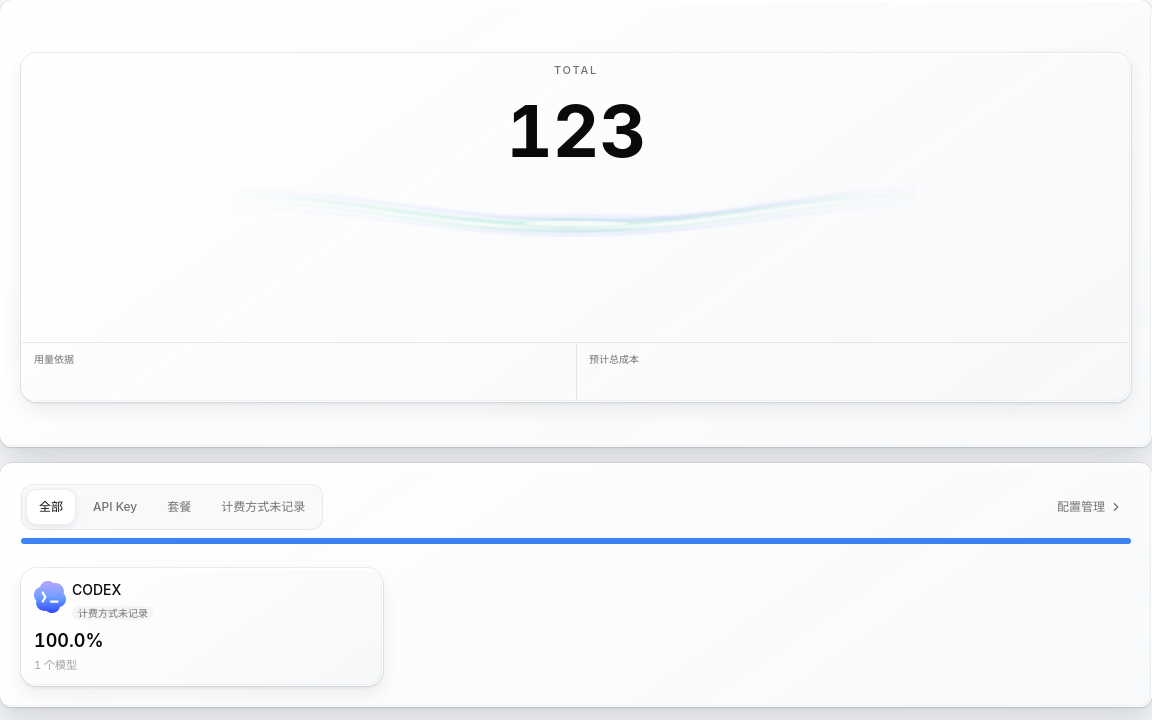
Test case: UsageOverview › uses Chinese copy for the Codex context breakdown heading
Click the button "CODEX 计费方式未记录 100.0% 1 个模型": [50, 597] box [21, 568, 383, 686]
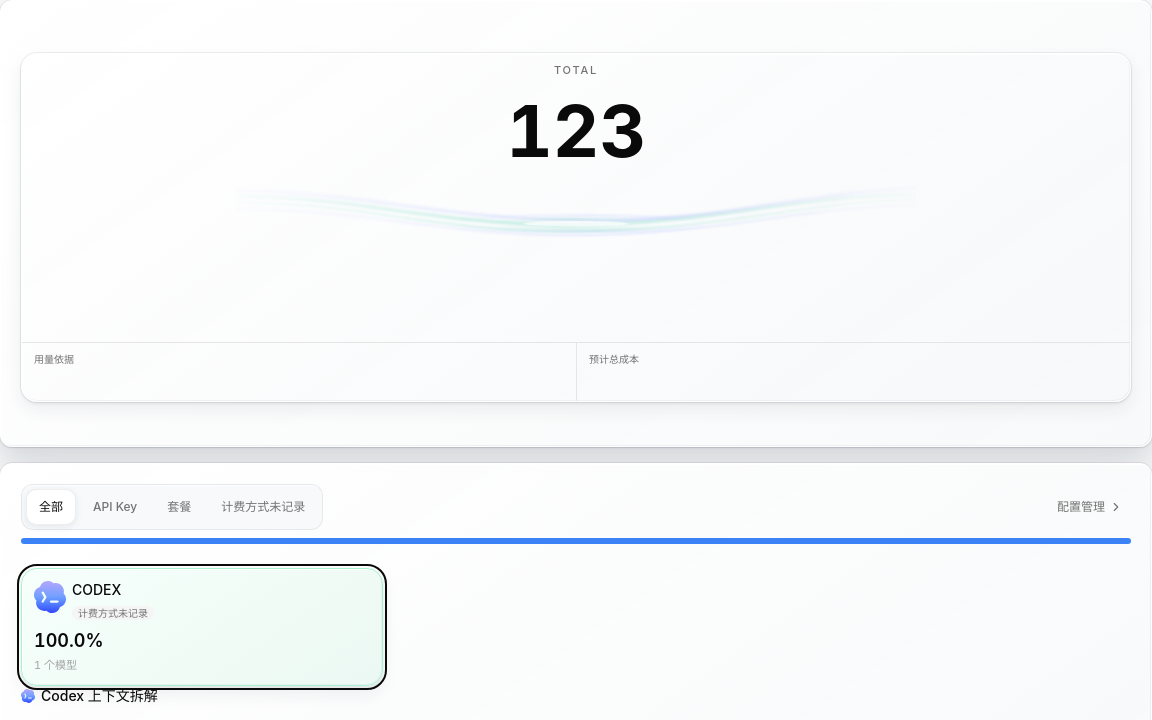
expect the text "Codex 上下文拆解" is shown: met, box [41, 686, 158, 706]
